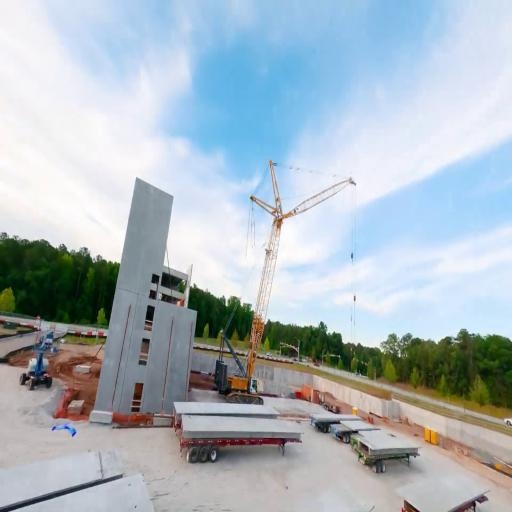uav: (49, 420, 77, 440)
